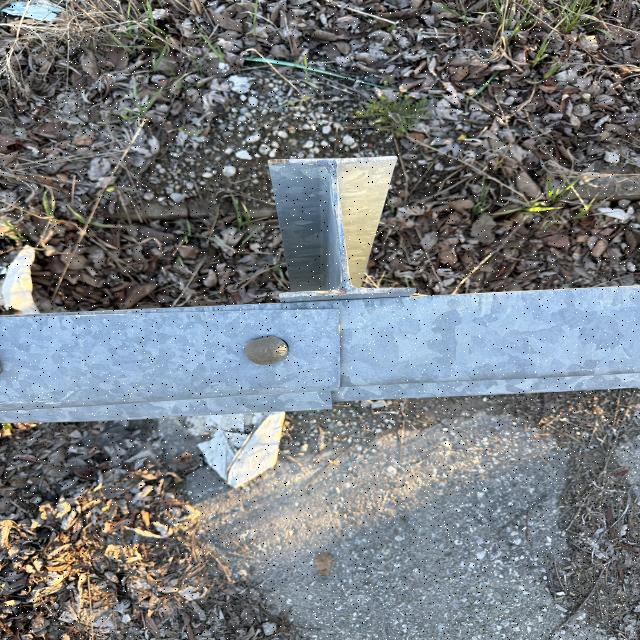Guard rail: (25, 182, 629, 408)
